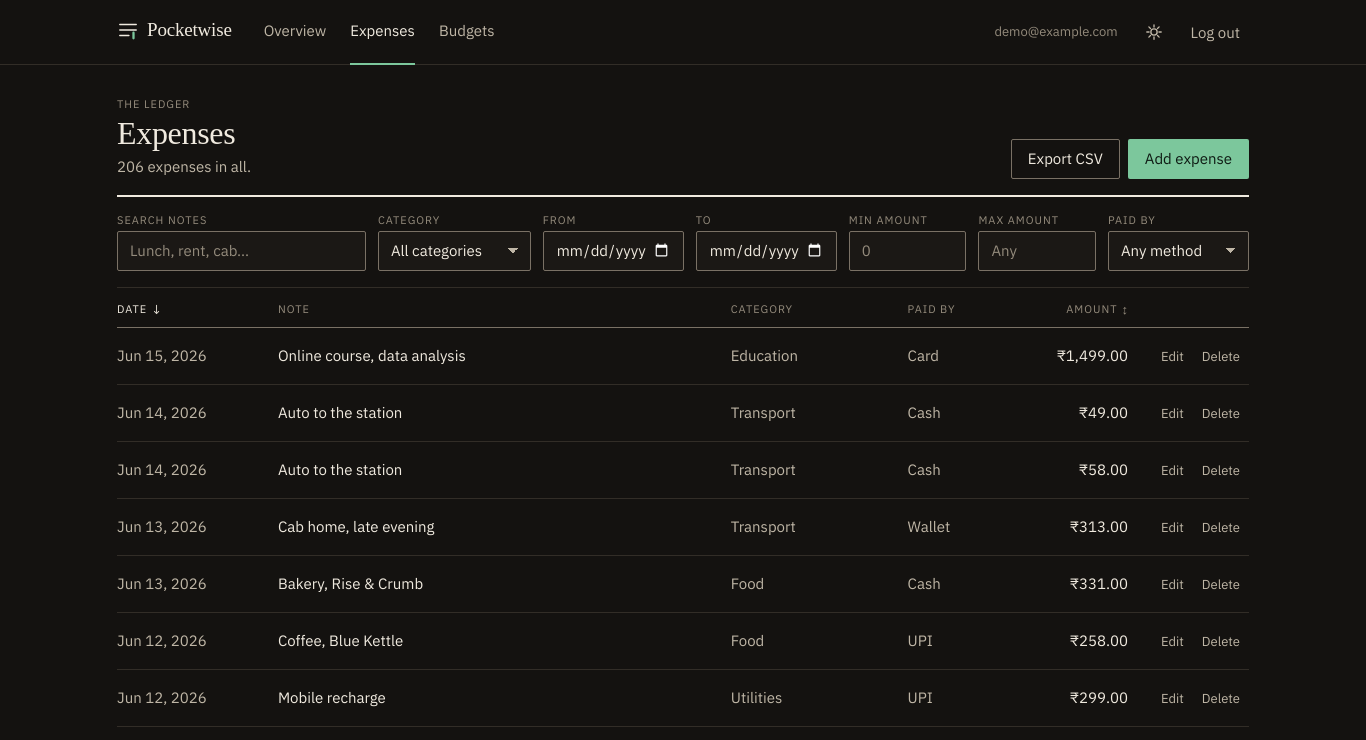
Test: add, edit and delete › shows an error that is not about a field above the form
Click the button "Add expense" at (1188, 159), box top-left (1128, 139), bottom-right (1249, 179)
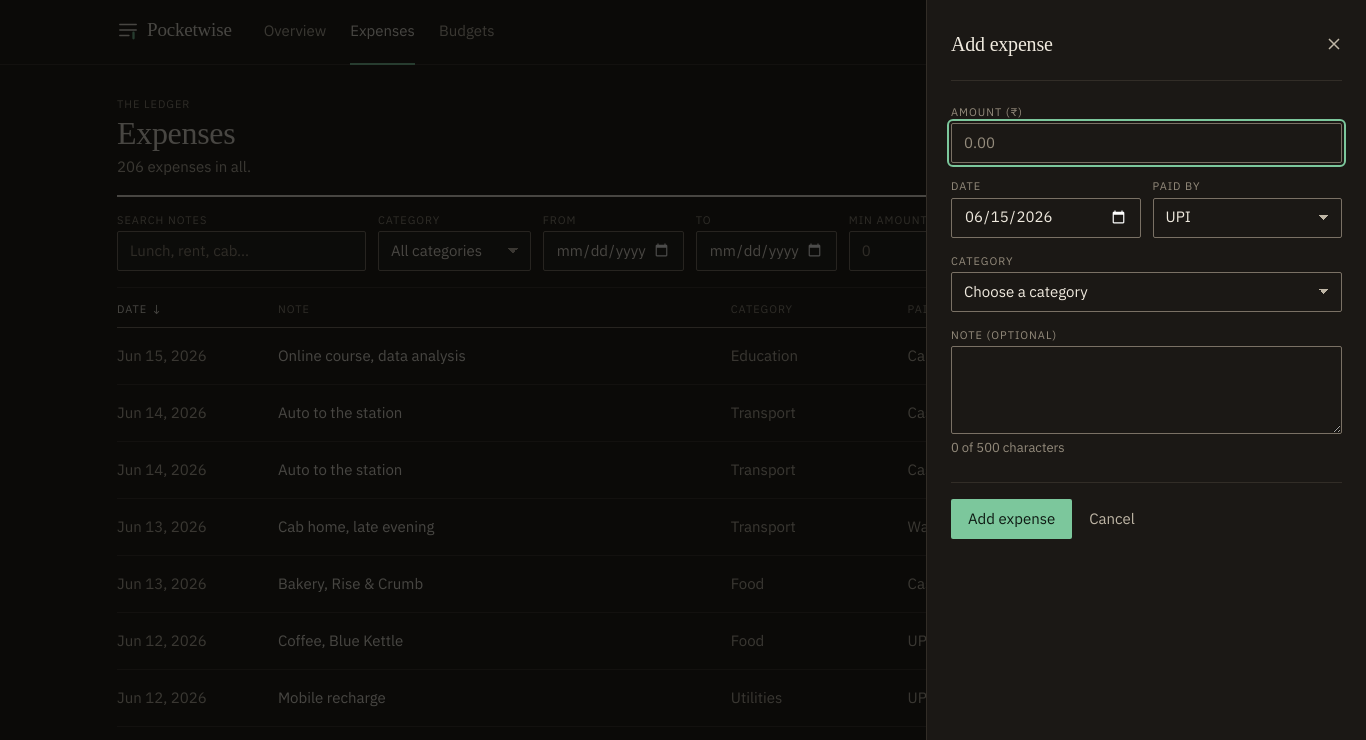
Now the field labelled "Amount (₹)" is shown
Type "10" into the field labelled "Amount (₹)" at (1146, 143), box top-left (951, 123), bottom-right (1342, 163)
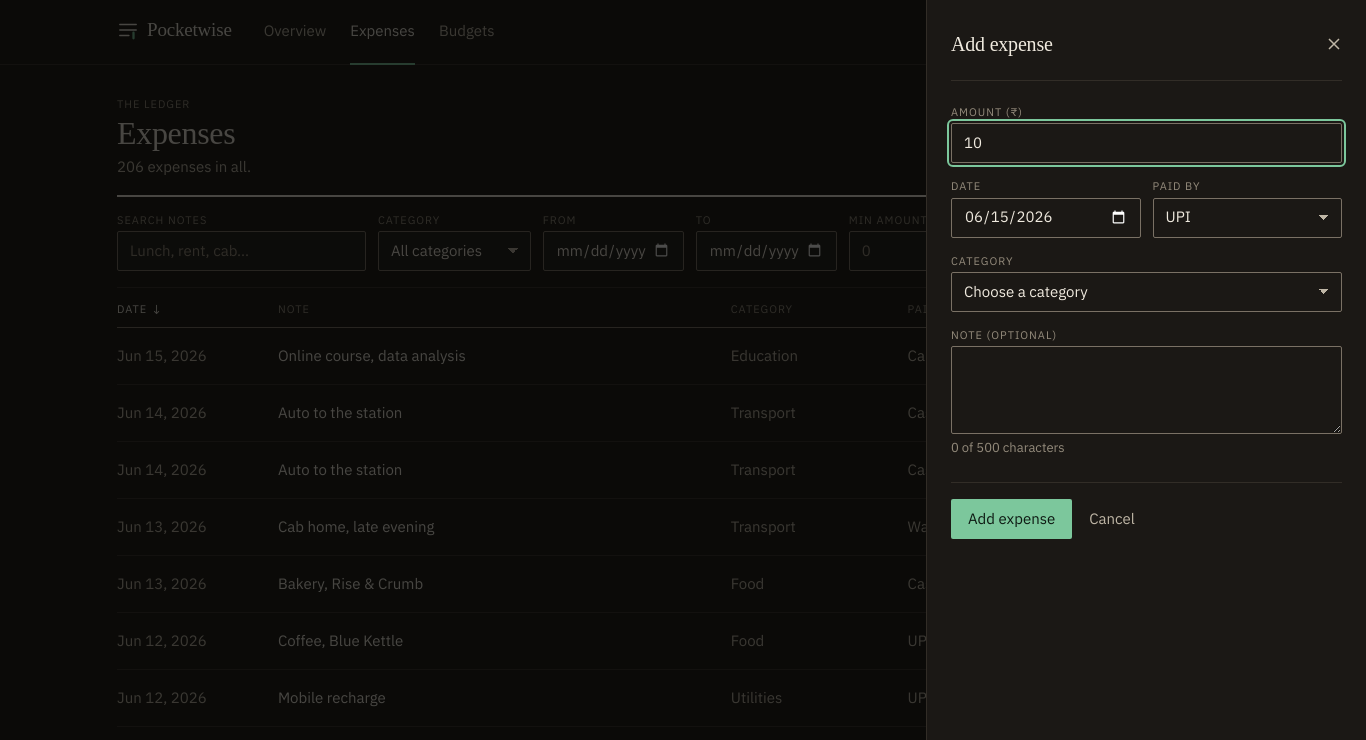
Select "Food" in the dropdown labelled "Category" at (1146, 292), box top-left (951, 272), bottom-right (1342, 312)
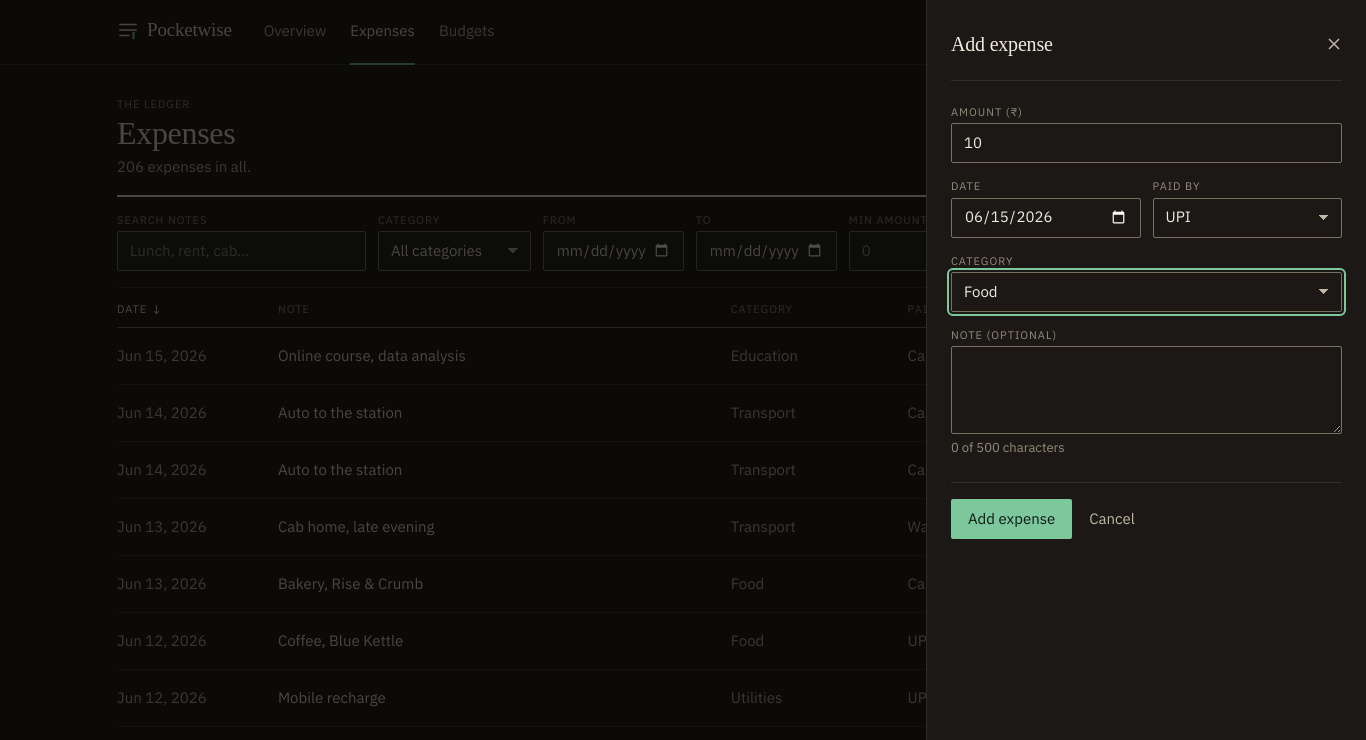
Click the button "Add expense" at (1012, 519), box top-left (951, 499), bottom-right (1072, 539)
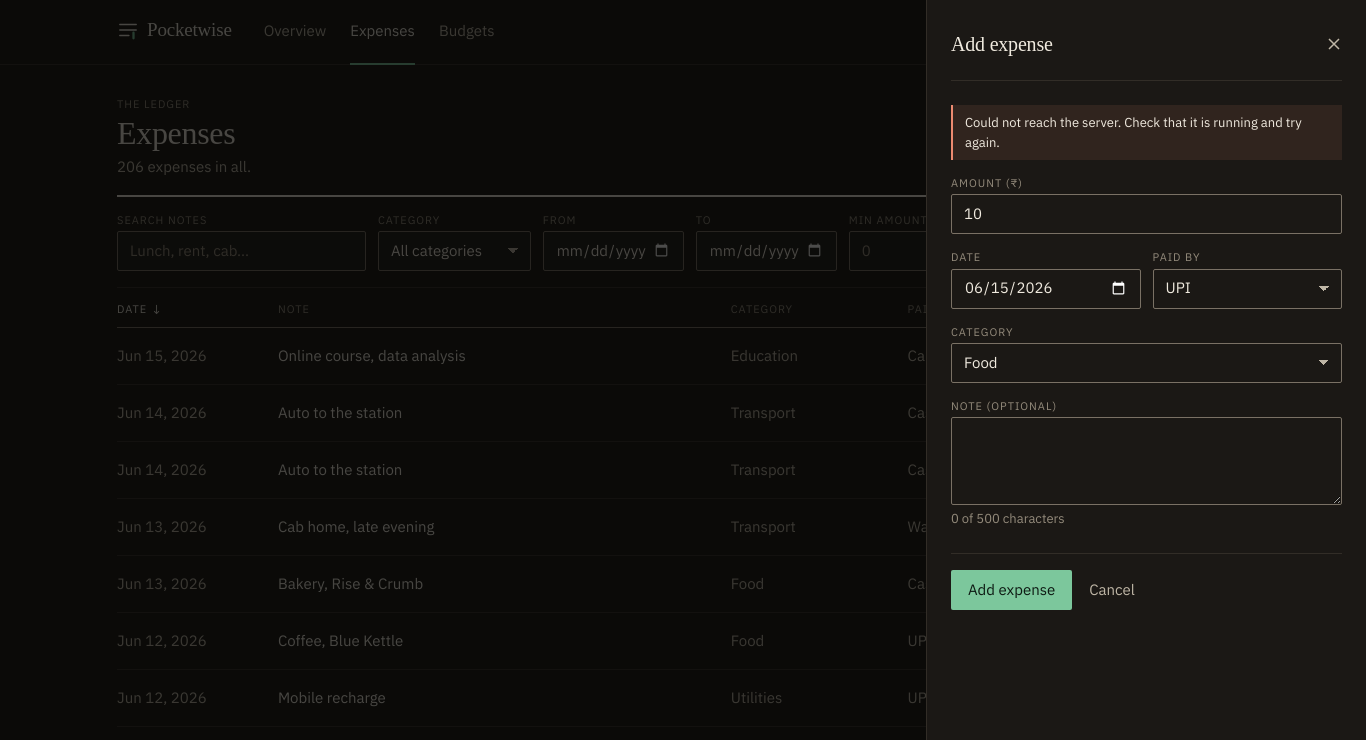
Now the message shows "Could not reach the server.", box top-left (965, 114), bottom-right (1302, 150)
